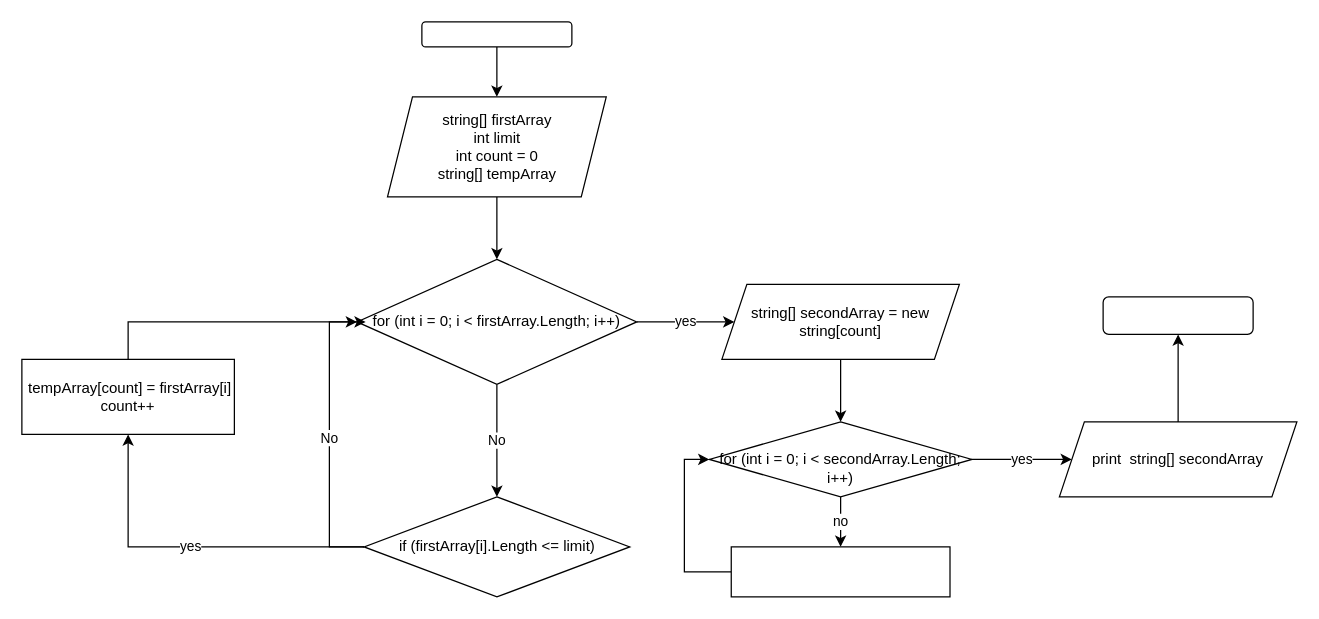
Some shapes in this 1319 by 619 pixel diagram are drawn without their labels. Here are the shapes that lost their labels. From the top down, the centre of each, then its label:
At [496,34]: "start".
At [1177,315]: "finish".
At [840,571]: "secondArray[i] = tempArray[i]".
